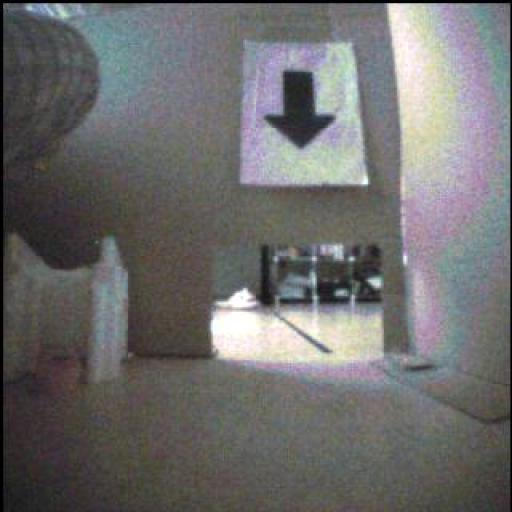arrow: (267, 71, 337, 150)
